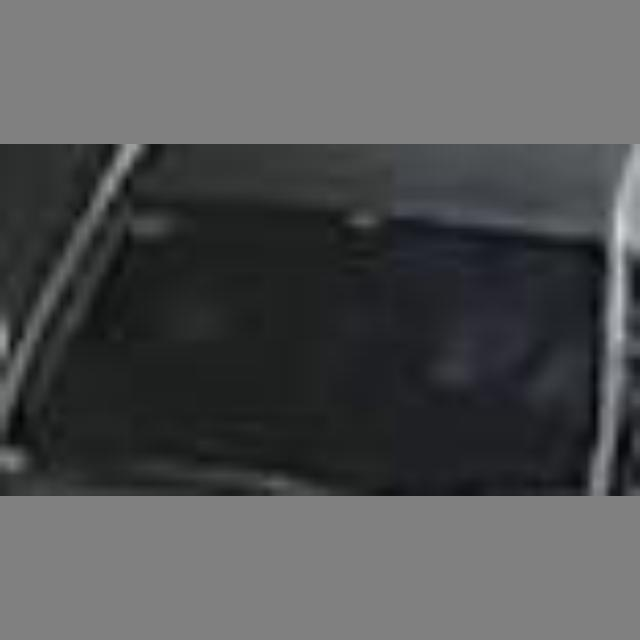pakai: (418, 275, 583, 423)
